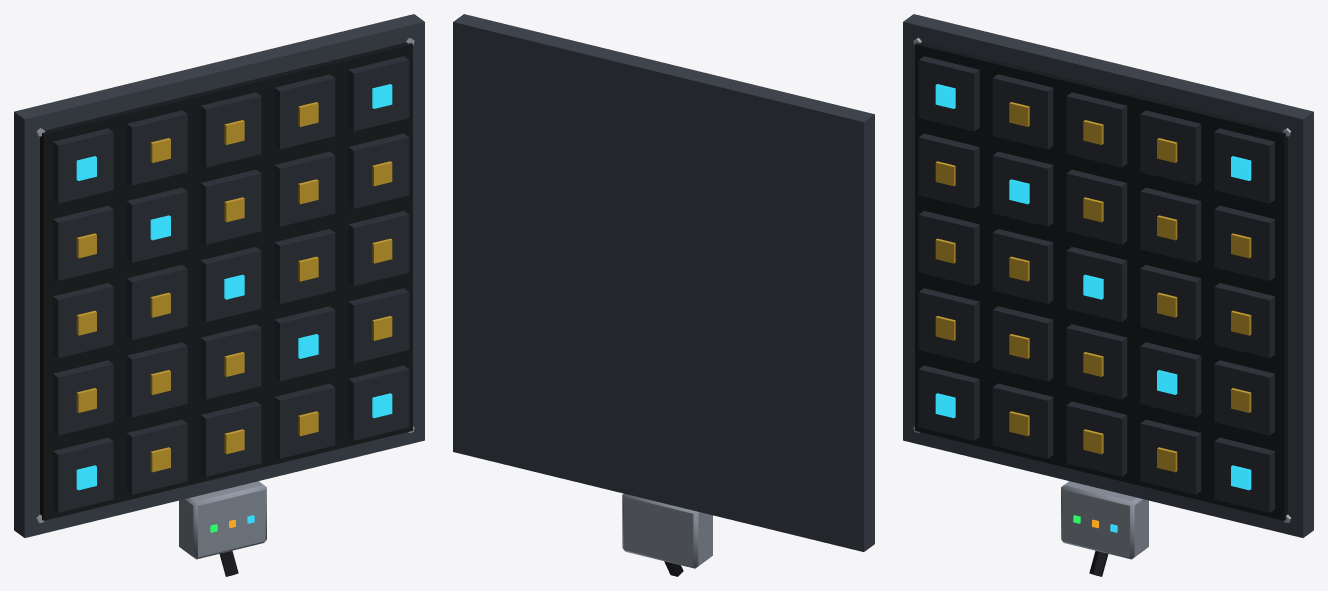
The model's file is antenna_phased_array_panel.glb.
The picture shows the model from 3 angles, left to right: view 1: azimuth 30°, elevation 25°; view 2: azimuth 150°, elevation 25°; view 3: azimuth 330°, elevation 25°; orthographic projection. The views are drawn at different scales.
Visible parts, largest first — view 1: antenna_phased_array_panel; view 2: antenna_phased_array_panel; view 3: antenna_phased_array_panel.
Part boxes in pixels (x1,y1,x2,y2): antenna_phased_array_panel: (14, 14, 424, 576); antenna_phased_array_panel: (453, 14, 874, 576); antenna_phased_array_panel: (903, 14, 1313, 576).
Size of the model in its own units: 1.3 by 1.56 by 0.12.
